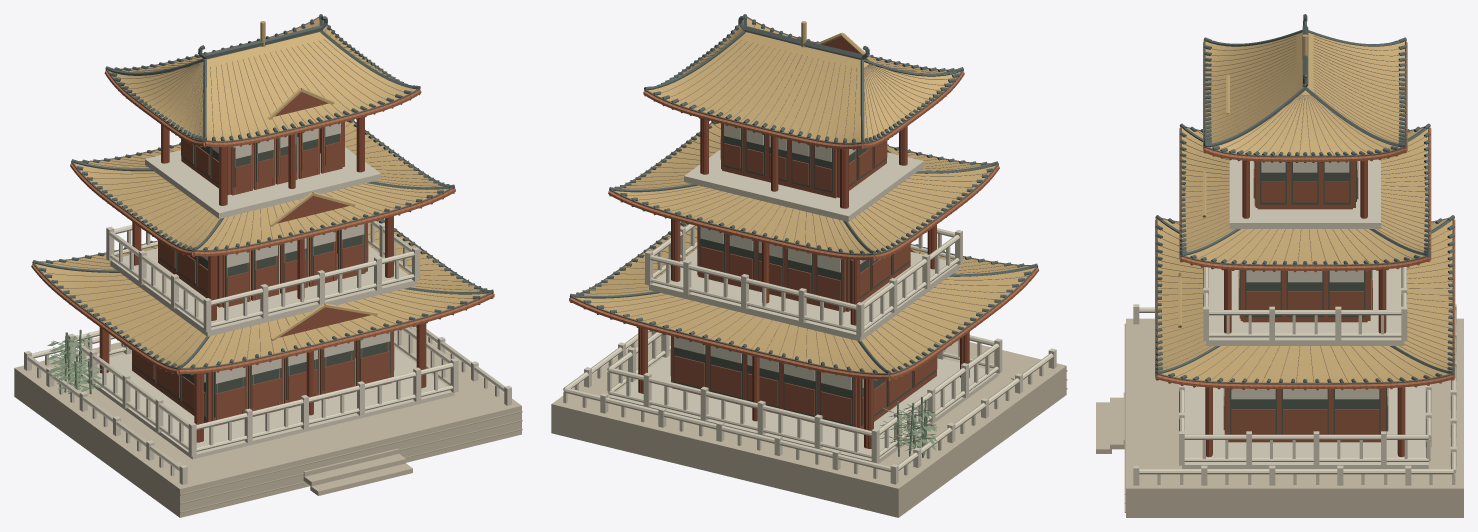
3 views of the same model, side by side, from view 1: azimuth 30°, elevation 25°; view 2: azimuth 150°, elevation 25°; view 3: azimuth 270°, elevation 25° (orthographic).
Visible parts, largest first — view 1: hanhuilou__hanhui_tile, hanhuilou__hanhui_rail, hanhuilou__warm_limestone, hanhuilou__hanhui_door, hanhuilou__hanhui_tile_ink, hanhuilou__tile_ridges, hanhuilou__painted_cedar, hanhuilou__deep_recess, hanhuilou__red_lacquer, hanhuilou__chibi_ink, hanhuilou__shore_silt, hanhuilou__jade_foliage; view 2: hanhuilou__hanhui_tile, hanhuilou__hanhui_rail, hanhuilou__warm_limestone, hanhuilou__hanhui_door, hanhuilou__hanhui_tile_ink, hanhuilou__tile_ridges, hanhuilou__deep_recess, hanhuilou__painted_cedar, hanhuilou__red_lacquer, hanhuilou__chibi_ink, hanhuilou__jade_foliage; view 3: hanhuilou__hanhui_tile, hanhuilou__hanhui_rail, hanhuilou__warm_limestone, hanhuilou__hanhui_tile_ink, hanhuilou__hanhui_door, hanhuilou__tile_ridges, hanhuilou__deep_recess, hanhuilou__painted_cedar, hanhuilou__chibi_ink, hanhuilou__red_lacquer.
Boxes of the visible parts, x1,y1,x2,y2 form: hanhuilou__hanhui_tile: [36, 18, 487, 367]; hanhuilou__hanhui_rail: [24, 123, 511, 484]; hanhuilou__warm_limestone: [14, 326, 521, 517]; hanhuilou__hanhui_door: [132, 92, 394, 426]; hanhuilou__hanhui_tile_ink: [42, 24, 479, 365]; hanhuilou__tile_ridges: [32, 14, 493, 370]; hanhuilou__painted_cedar: [31, 70, 494, 419]; hanhuilou__deep_recess: [132, 123, 390, 419]; hanhuilou__red_lacquer: [99, 116, 426, 442]; hanhuilou__chibi_ink: [32, 16, 493, 369]; hanhuilou__shore_silt: [180, 411, 522, 513]; hanhuilou__jade_foliage: [46, 329, 102, 394]; hanhuilou__hanhui_tile: [575, 18, 1034, 372]; hanhuilou__hanhui_rail: [563, 124, 1056, 484]; hanhuilou__warm_limestone: [551, 331, 1066, 517]; hanhuilou__hanhui_door: [670, 36, 937, 432]; hanhuilou__hanhui_tile_ink: [584, 24, 1027, 370]; hanhuilou__tile_ridges: [570, 14, 1037, 375]; hanhuilou__deep_recess: [673, 124, 936, 426]; hanhuilou__painted_cedar: [569, 71, 1038, 380]; hanhuilou__red_lacquer: [638, 118, 969, 448]; hanhuilou__chibi_ink: [569, 16, 1038, 374]; hanhuilou__jade_foliage: [879, 396, 938, 457]; hanhuilou__hanhui_tile: [1157, 32, 1452, 382]; hanhuilou__hanhui_rail: [1133, 159, 1456, 485]; hanhuilou__warm_limestone: [1096, 318, 1463, 517]; hanhuilou__hanhui_tile_ink: [1157, 35, 1452, 382]; hanhuilou__hanhui_door: [1223, 87, 1388, 442]; hanhuilou__tile_ridges: [1155, 14, 1454, 382]; hanhuilou__deep_recess: [1224, 161, 1386, 434]; hanhuilou__painted_cedar: [1155, 42, 1455, 434]; hanhuilou__chibi_ink: [1156, 40, 1454, 384]; hanhuilou__red_lacquer: [1205, 160, 1405, 456].
Bounding box in the file's own units: 13.75 × 14.92 × 12.52.
Materials: 14 (1 with a texture image).
